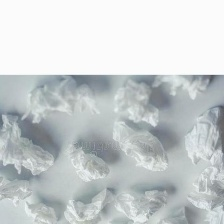tissue: (180, 102, 223, 223), (17, 75, 105, 128), (0, 109, 60, 179), (108, 115, 172, 175), (110, 75, 163, 131), (108, 183, 174, 223), (60, 184, 121, 223), (63, 139, 114, 184), (164, 75, 216, 104), (0, 175, 37, 211), (20, 197, 63, 223)
